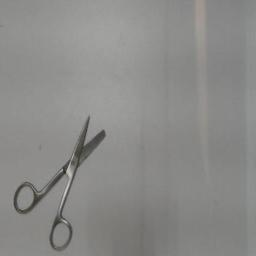Dressing Scissors: (8, 106, 112, 254)
